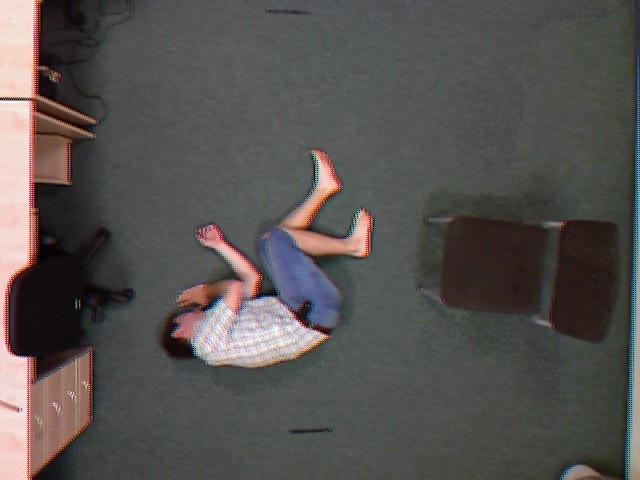fall: (153, 144, 384, 379)
